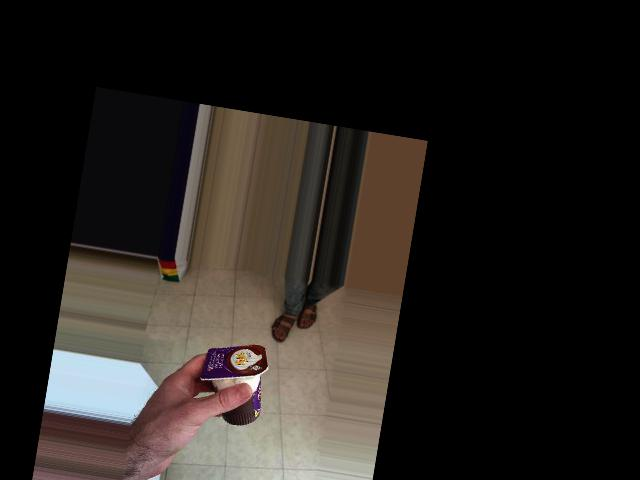milky: (205, 330, 296, 406)
